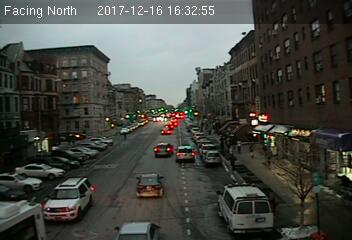car: (43, 176, 96, 222), (112, 219, 162, 240), (134, 173, 166, 199), (175, 145, 196, 164), (153, 142, 174, 157), (202, 150, 221, 164), (159, 127, 171, 135)
police: (215, 178, 274, 237)
